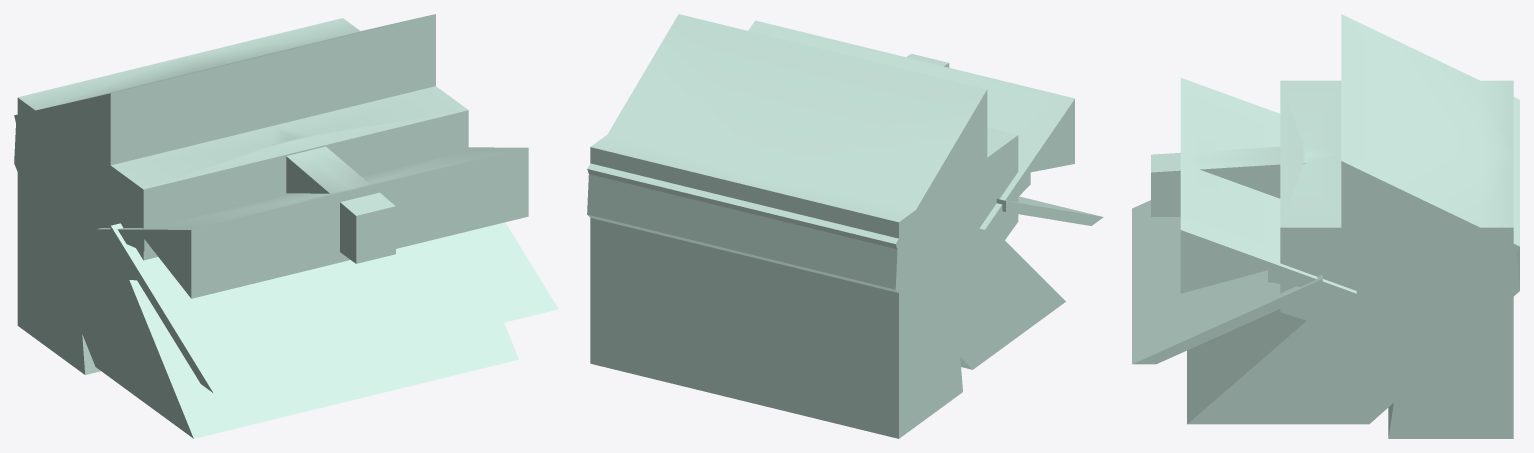
3 views of the same model, side by side, from view 1: azimuth 30°, elevation 25°; view 2: azimuth 150°, elevation 25°; view 3: azimuth 270°, elevation 25° (orthographic). The views are drawn at different scales.
Parts seen in each view (by area): view 1: Renderer Node; view 2: Renderer Node; view 3: Renderer Node.
Part boxes in pixels (x1,y1,x2,y2): Renderer Node: [14, 14, 558, 438]; Renderer Node: [587, 14, 1103, 438]; Renderer Node: [1132, 14, 1519, 438].
Bounding box in the file's own units: 1.36 × 1.13 × 1.43.
